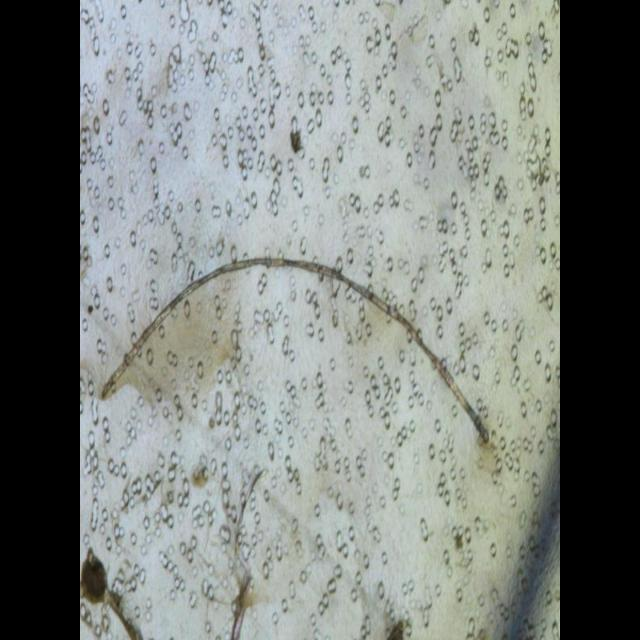Fibre: (100, 246, 494, 454)
